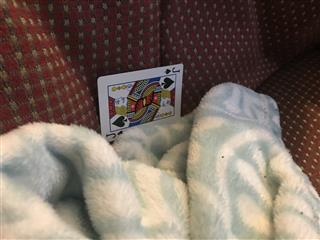JackOfSpades: (95, 62, 184, 141)
